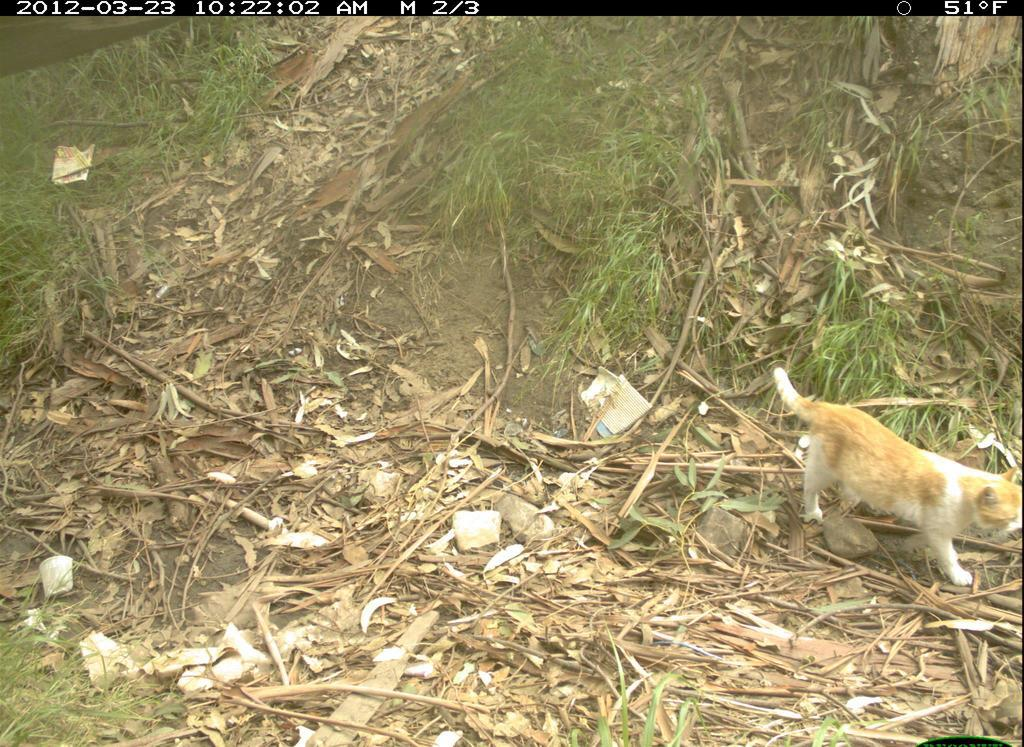cat: (767, 363, 1021, 585)
